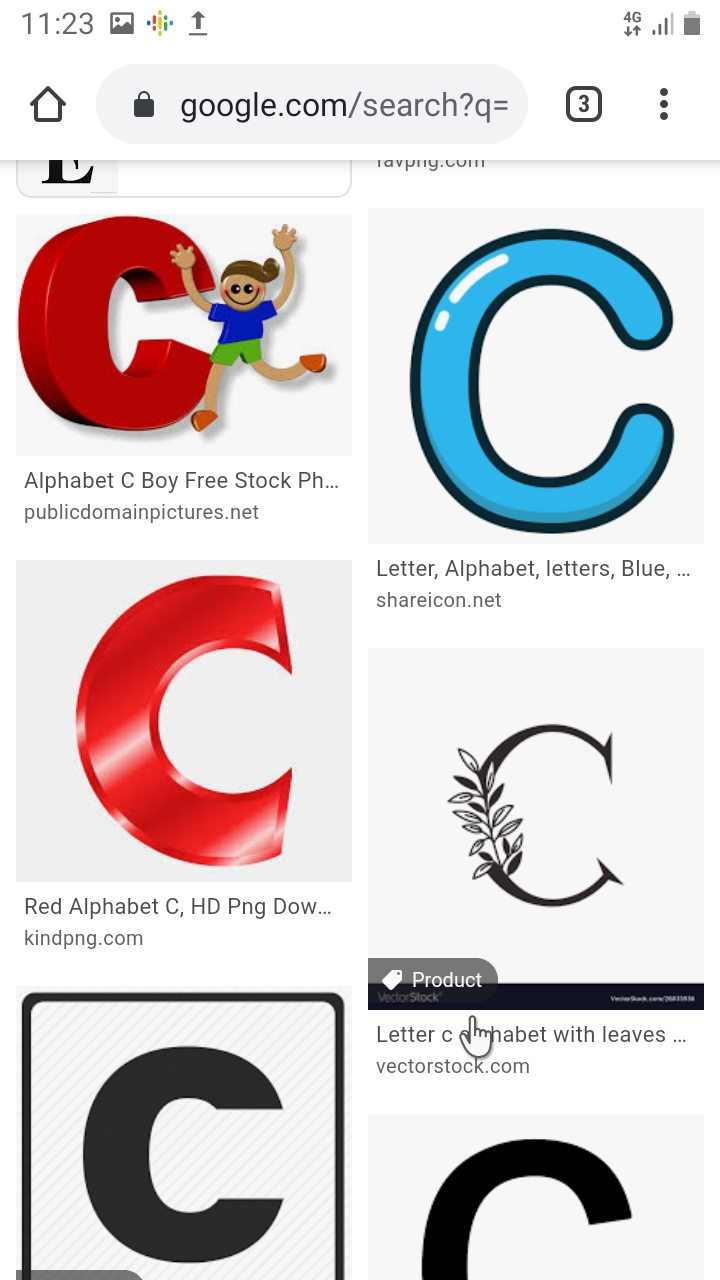zone C: (394, 206, 702, 547), (59, 563, 311, 884), (13, 212, 219, 457), (74, 1039, 292, 1270), (441, 708, 647, 923)
